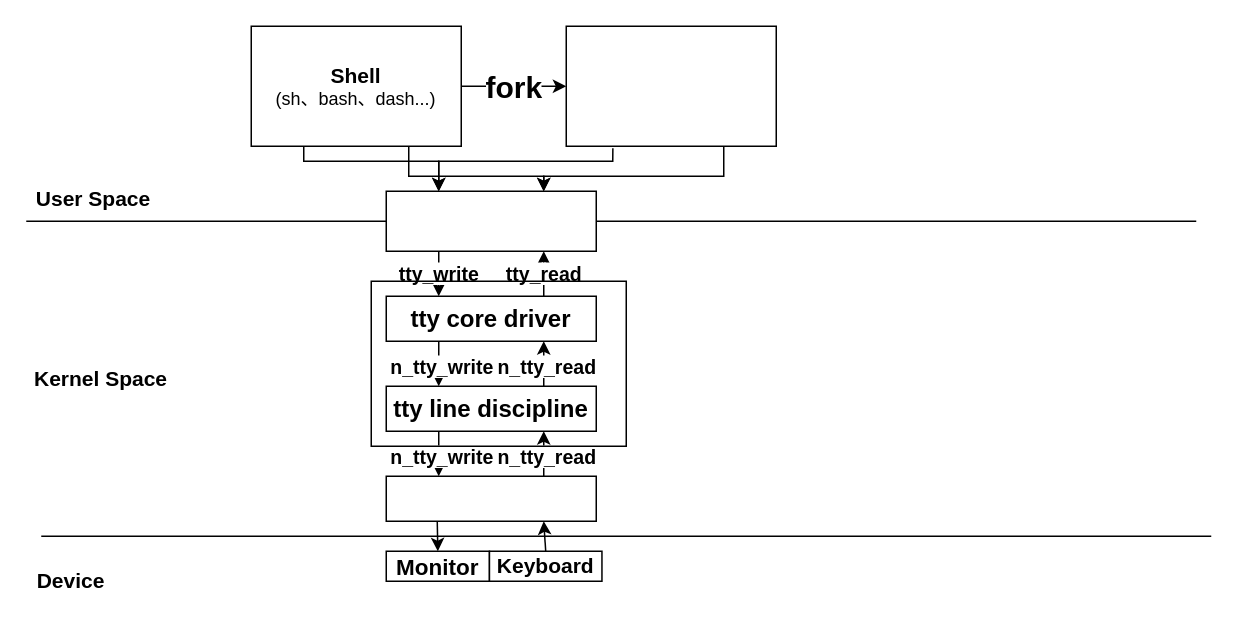
Image size: 1239x630. Some labels were removed from this diagram. The shapes that lost their labels are listed below. From the top down, each one's centre as x and y in pixels, then its label:
At (x=670, y=85): "Progam (cd、ls...)".
At (x=490, y=220): "/dev/tty*".
At (x=490, y=498): "virtual console".
